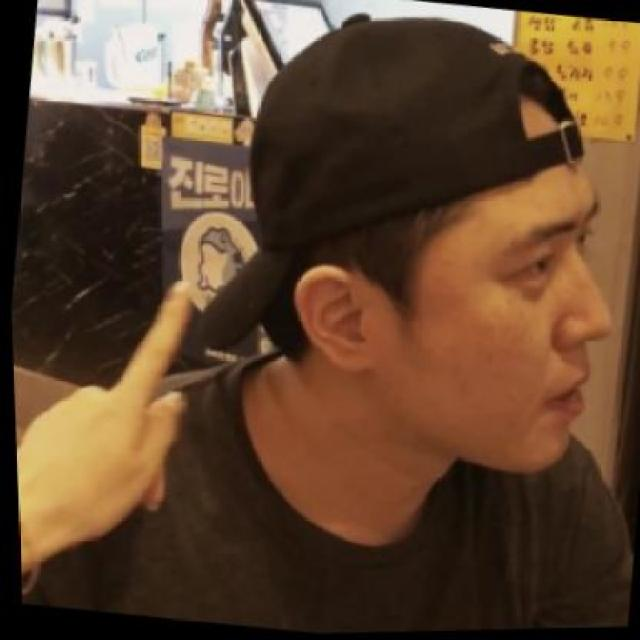hat: (188, 17, 586, 356)
